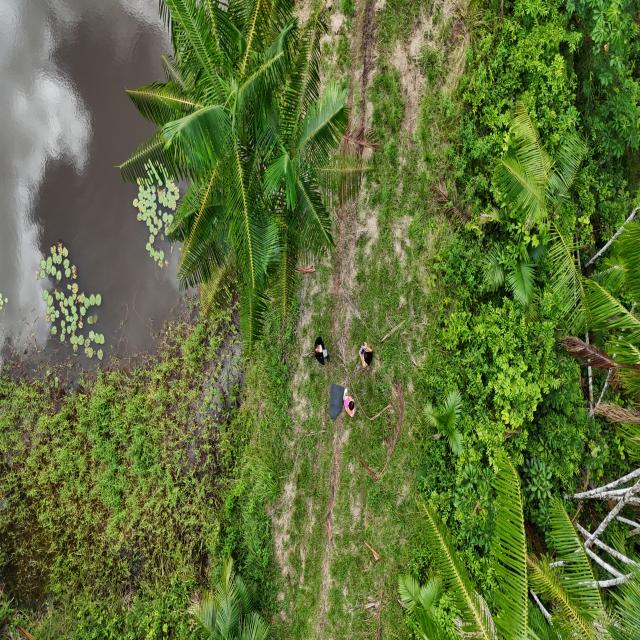vegetation: (114, 0, 374, 361)
